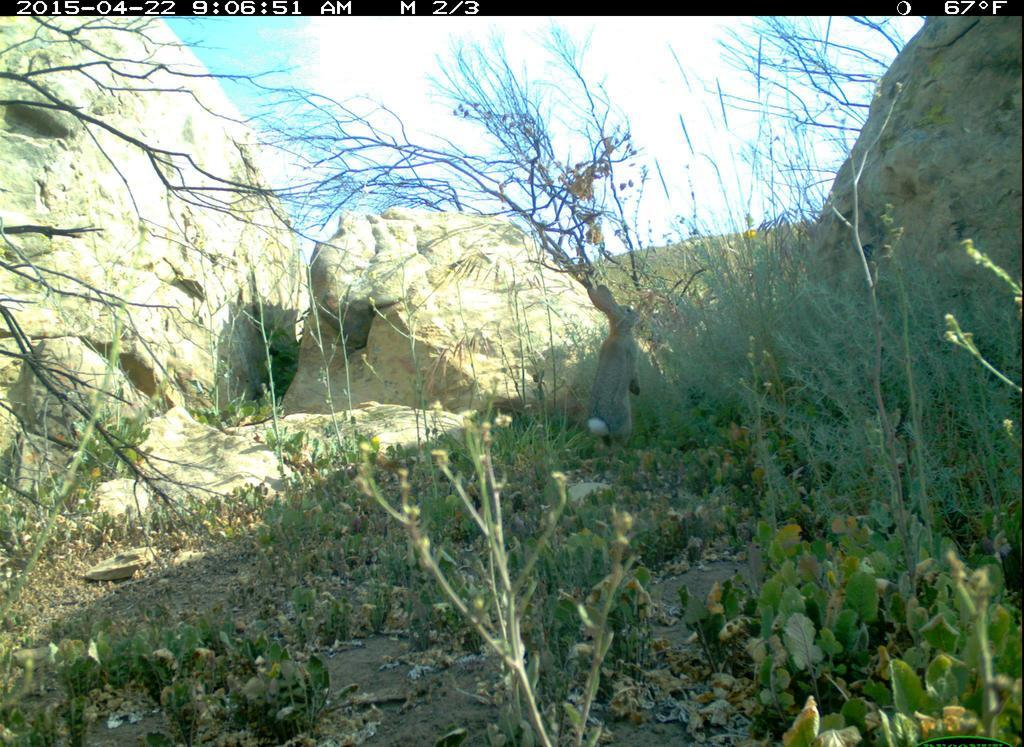rabbit: (569, 262, 674, 463)
